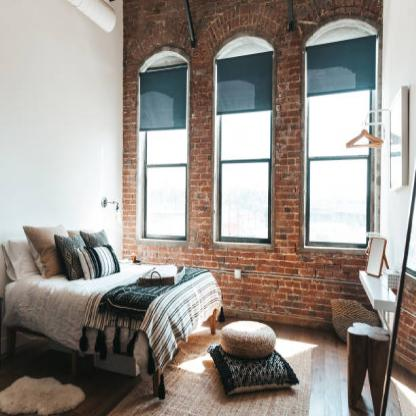Window: (302, 14, 374, 246), (213, 28, 274, 244), (134, 44, 191, 240)
